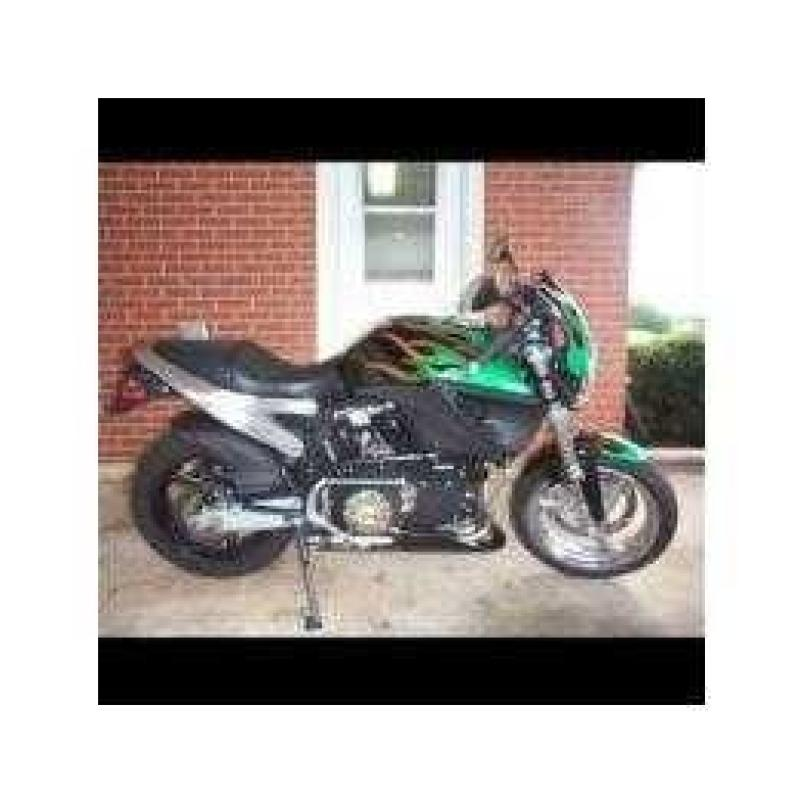bike: (103, 215, 702, 580)
